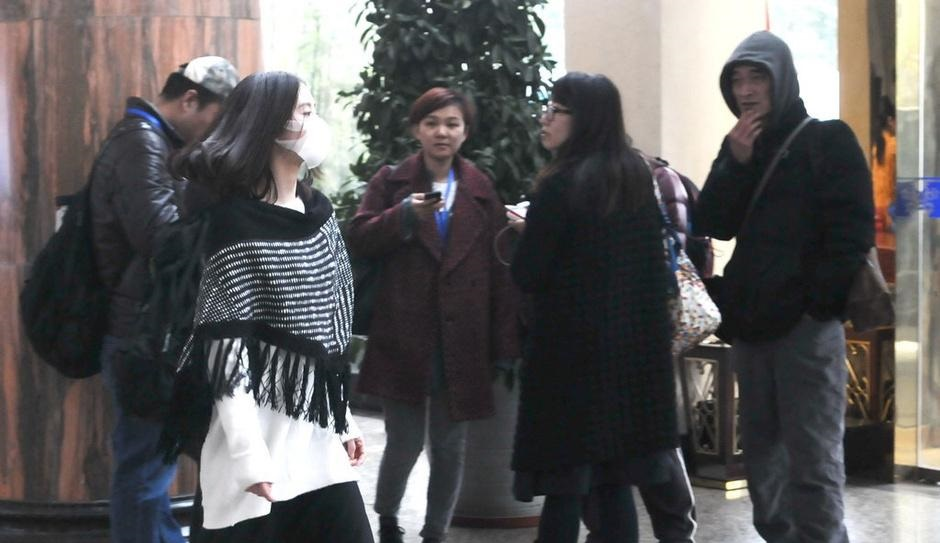face: (731, 64, 778, 118), (419, 107, 465, 157), (538, 94, 579, 148)
face_mask: (276, 93, 326, 167)
